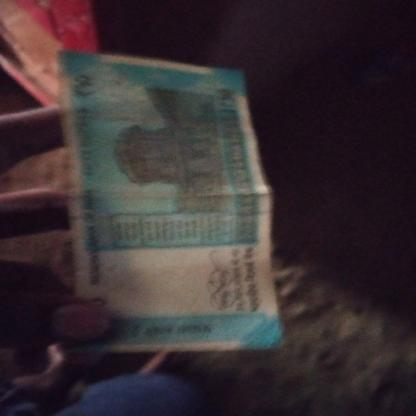New50Back: (65, 58, 278, 344)
